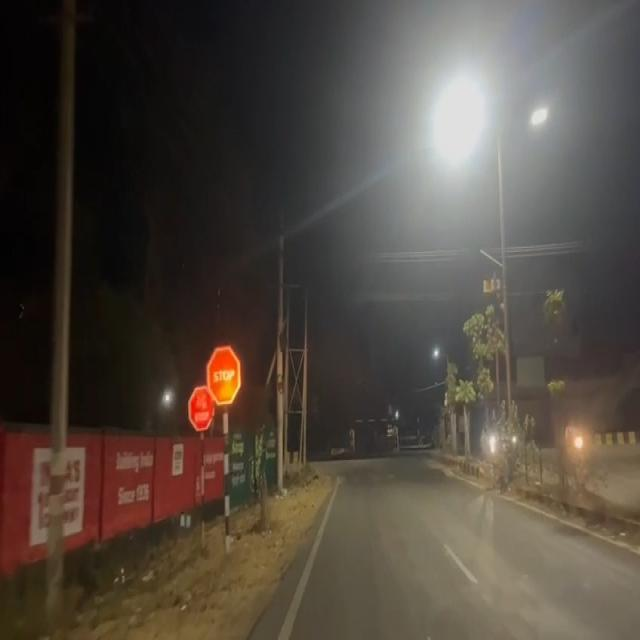bien_cam: (205, 343, 242, 406), (187, 384, 215, 431)
